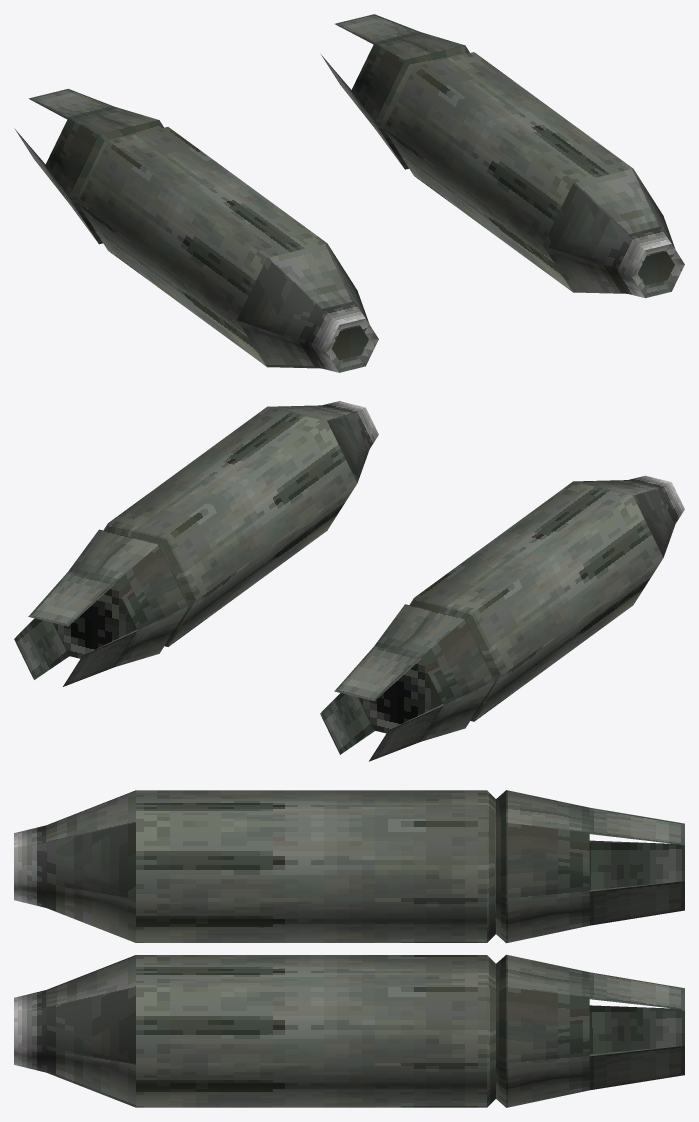
Rendered from black_sun_fighter_heavy_engine_s01_l2.fbx.
3 views of the same model, one above another, from view 1: azimuth 30°, elevation 25°; view 2: azimuth 150°, elevation 25°; view 3: azimuth 270°, elevation 25° (orthographic). The views are drawn at different scales.
Parts seen in each view (by area): view 1: mesh_node; view 2: mesh_node; view 3: mesh_node.
Boxes of the visible parts, x1=… form: mesh_node: x1=14, y1=14, x2=684, y2=372; mesh_node: x1=14, y1=401, x2=684, y2=761; mesh_node: x1=14, y1=790, x2=684, y2=1107.
Size of the model in its own units: 8.26 by 2.03 by 10.2.
